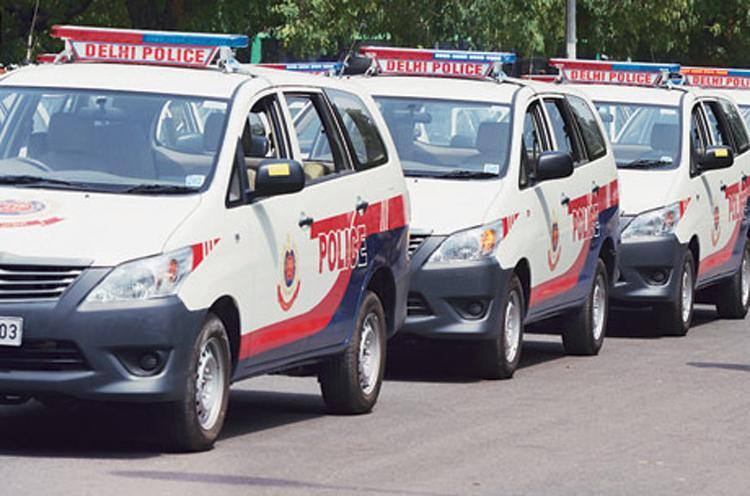Emergency-Vehicles: (13, 34, 370, 440), (321, 46, 567, 347), (547, 32, 750, 331)
